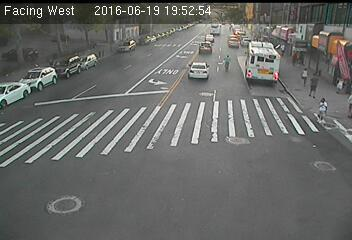neg: (80, 27, 91, 42), (50, 31, 61, 46), (102, 27, 111, 39), (63, 31, 72, 42)
pos: (310, 94, 333, 124), (306, 69, 324, 93), (341, 90, 351, 115), (299, 65, 312, 82), (279, 40, 289, 54), (290, 51, 300, 64)
